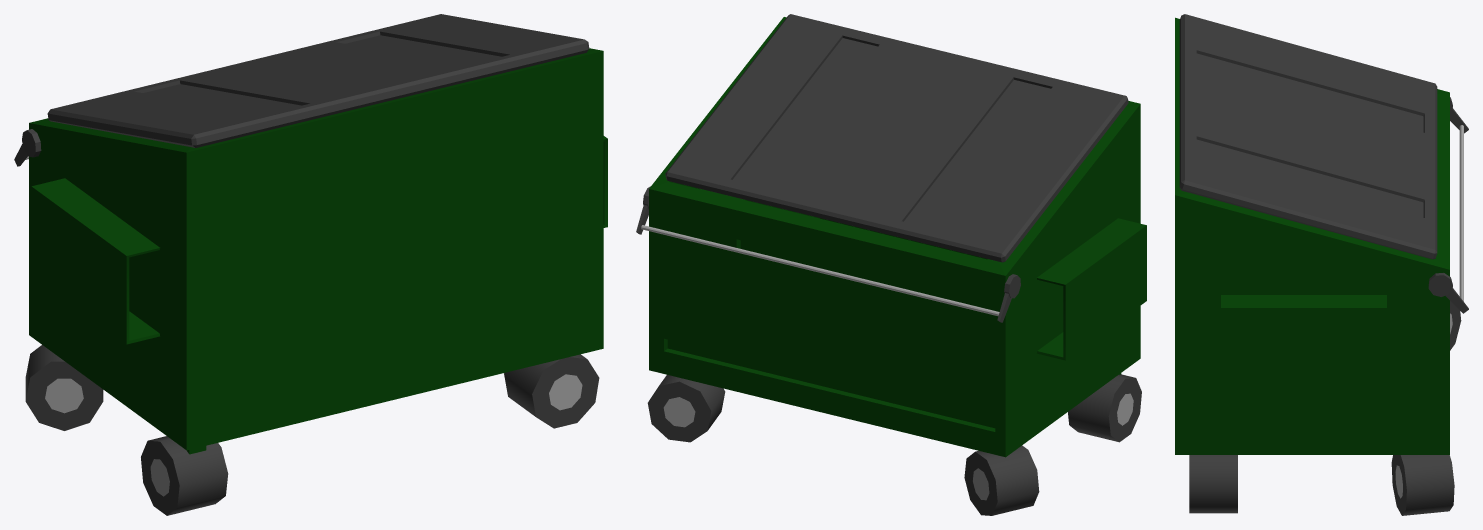
The model's file is Trash_dumpster 1.fbx.
3 renders of one model, left to right at view 1: azimuth 30°, elevation 25°; view 2: azimuth 150°, elevation 25°; view 3: azimuth 270°, elevation 25°, orthographic. The views are drawn at different scales.
Parts seen in each view (by area): view 1: pCylinder18; view 2: pCylinder18; view 3: pCylinder18.
Part boxes in pixels (x1,y1,x2,y2): pCylinder18: [14, 14, 607, 515]; pCylinder18: [636, 14, 1146, 515]; pCylinder18: [1175, 14, 1468, 515].
Bounding box in the file's own units: 286 × 219 × 174.
